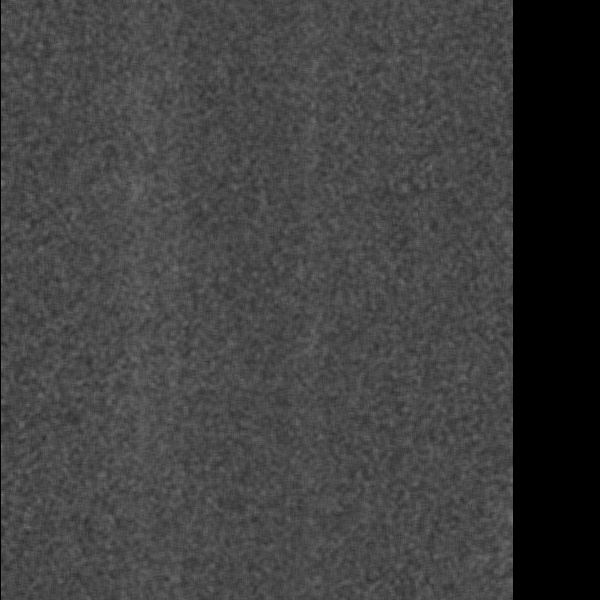spark: (451, 266, 483, 320)
